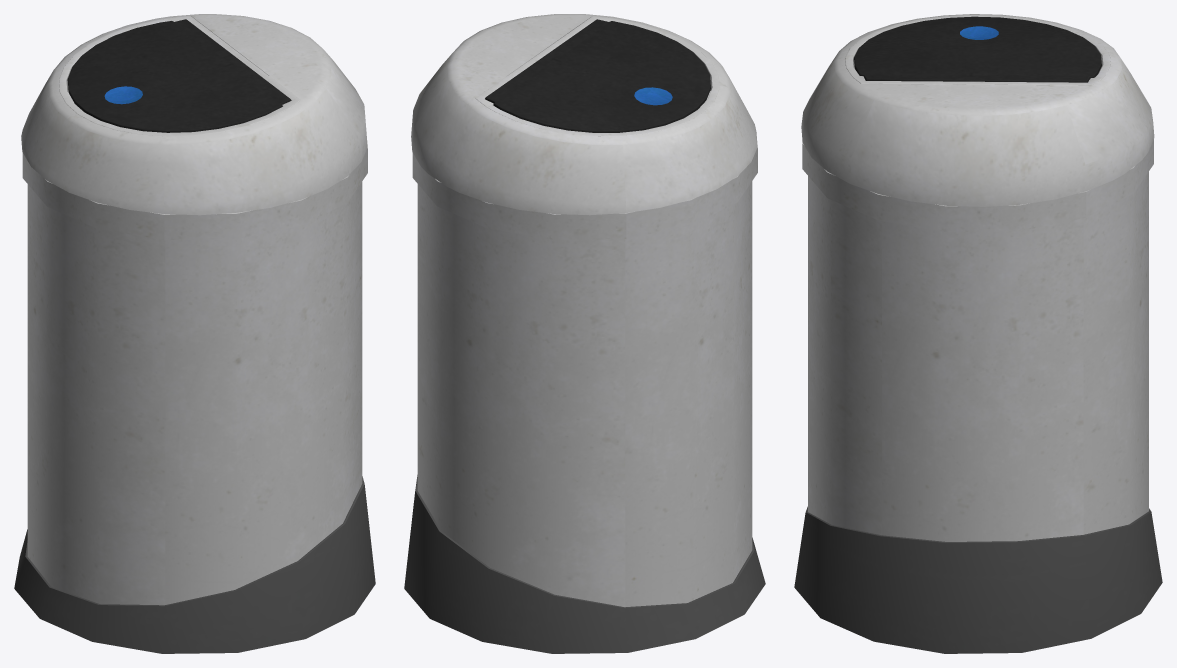
The model's file is SM_检查室_垃圾桶_01.fbx.
3 views of the same model, side by side, from view 1: azimuth 30°, elevation 25°; view 2: azimuth 150°, elevation 25°; view 3: azimuth 270°, elevation 25° (orthographic).
Visible parts, largest first — view 1: SM_检查室_垃圾桶_01; view 2: SM_检查室_垃圾桶_01; view 3: SM_检查室_垃圾桶_01.
Boxes of the visible parts, bbox=[...] form: SM_检查室_垃圾桶_01: bbox=[14, 14, 375, 653]; SM_检查室_垃圾桶_01: bbox=[404, 14, 765, 653]; SM_检查室_垃圾桶_01: bbox=[794, 14, 1162, 653].
Bounding box in the file's own units: 247 × 387 × 247.
